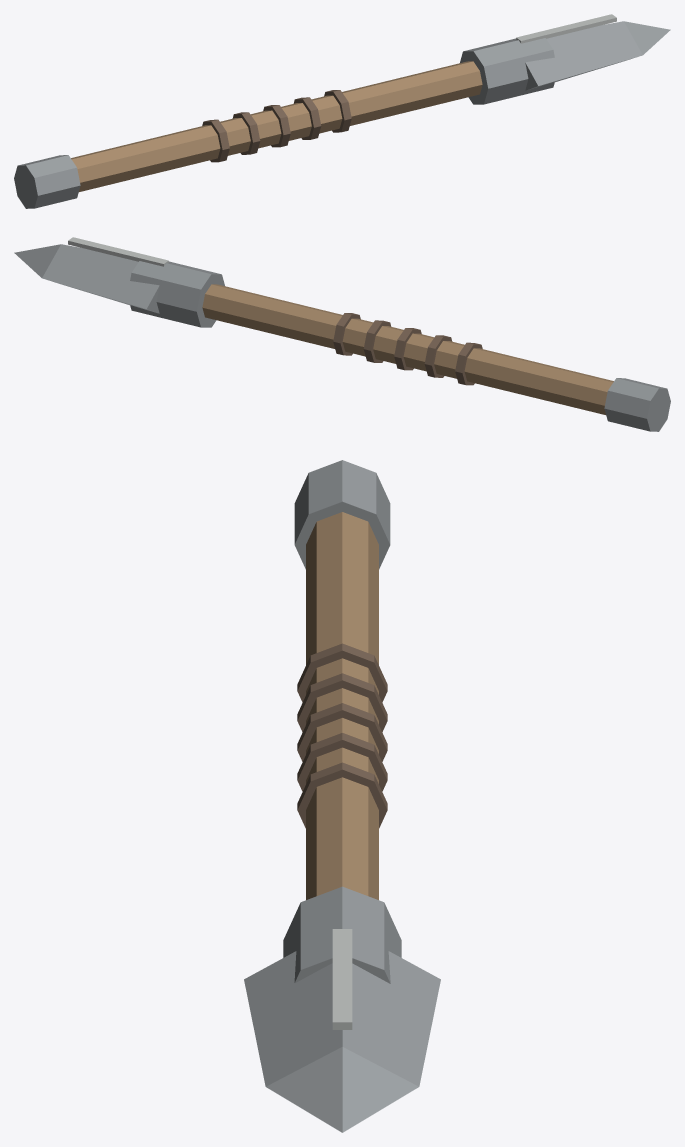
File: spear.glb
3 views of the same model, one above another, from view 1: azimuth 30°, elevation 25°; view 2: azimuth 150°, elevation 25°; view 3: azimuth 270°, elevation 25° (orthographic). The views are drawn at different scales.
Parts seen in each view (by area): view 1: spear; view 2: spear; view 3: spear.
Part boxes in pixels (x1=…): spear: x1=14, y1=14, x2=670, y2=208; spear: x1=14, y1=237, x2=670, y2=431; spear: x1=244, y1=460, x2=440, y2=1132.
Size of the model in its own units: 0.529 by 0.0427 by 0.07.
